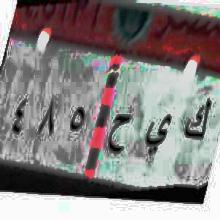4: (8, 93, 30, 146)
5: (68, 99, 90, 149)
7aa: (107, 108, 133, 164)
8: (37, 93, 58, 144)
kaaf: (181, 96, 212, 145)
yaa: (142, 107, 172, 161)
